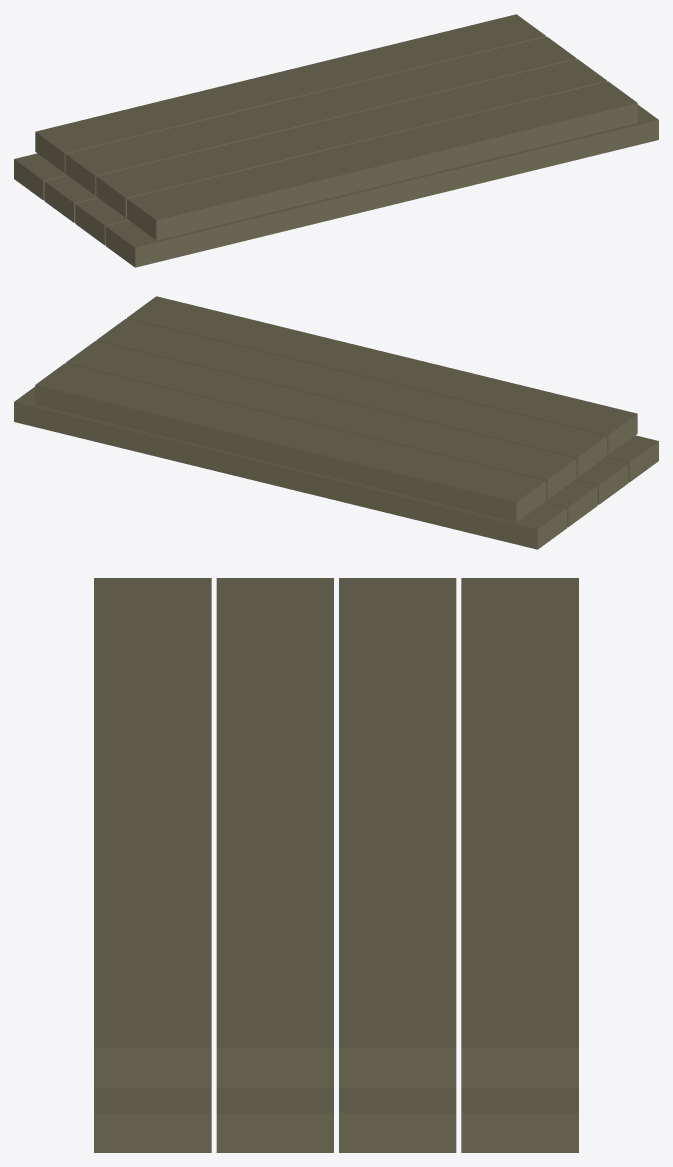
The model's file is SM_Banqueta_v1_LOD1.fbx.
The picture shows the model from 3 angles, top to bottom: view 1: azimuth 30°, elevation 25°; view 2: azimuth 150°, elevation 25°; view 3: azimuth 270°, elevation 25°; orthographic projection. The views are drawn at different scales.
Visible parts, largest first — view 1: SM_banqueta_tiro_v1_LOD1; view 2: SM_banqueta_tiro_v1_LOD1; view 3: SM_banqueta_tiro_v1_LOD1.
Part boxes in pixels (box(x1,y1,x2,y2)): SM_banqueta_tiro_v1_LOD1: box(14, 14, 658, 267); SM_banqueta_tiro_v1_LOD1: box(14, 296, 658, 549); SM_banqueta_tiro_v1_LOD1: box(94, 578, 578, 1152).
Bounding box in the file's own units: 4.94 × 0.38 × 1.98.
